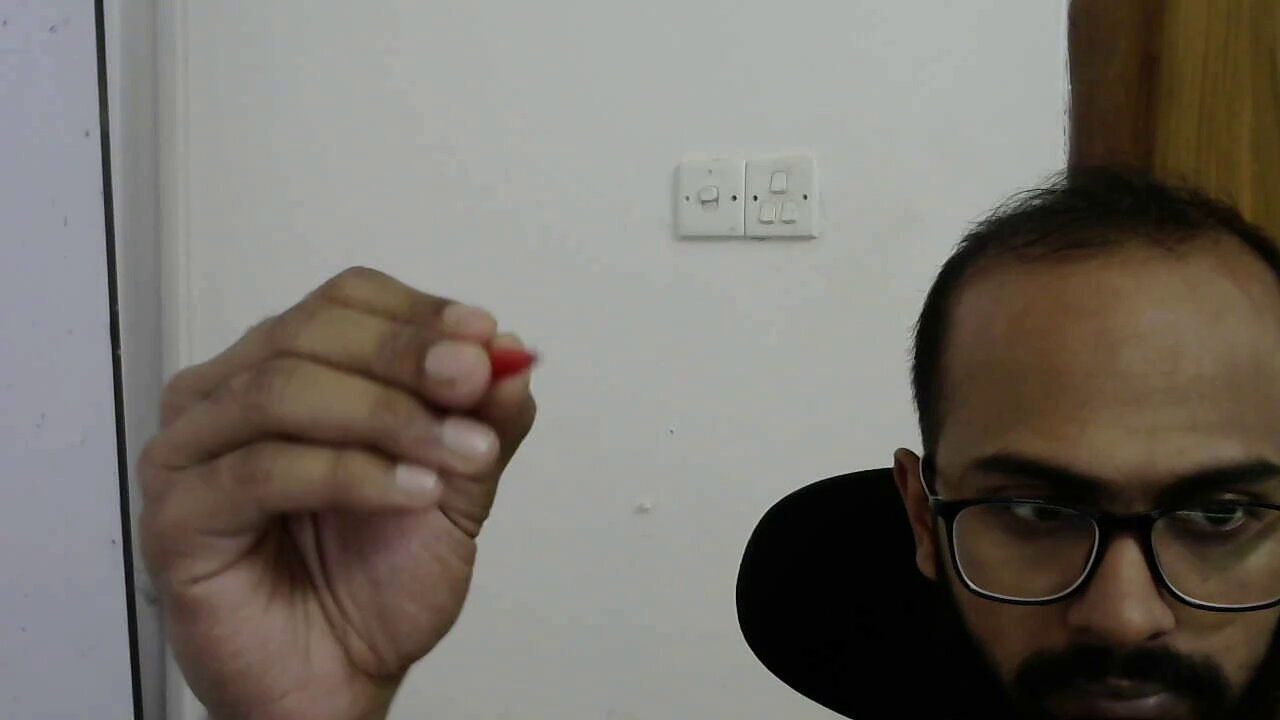pointer: (134, 264, 544, 652)
